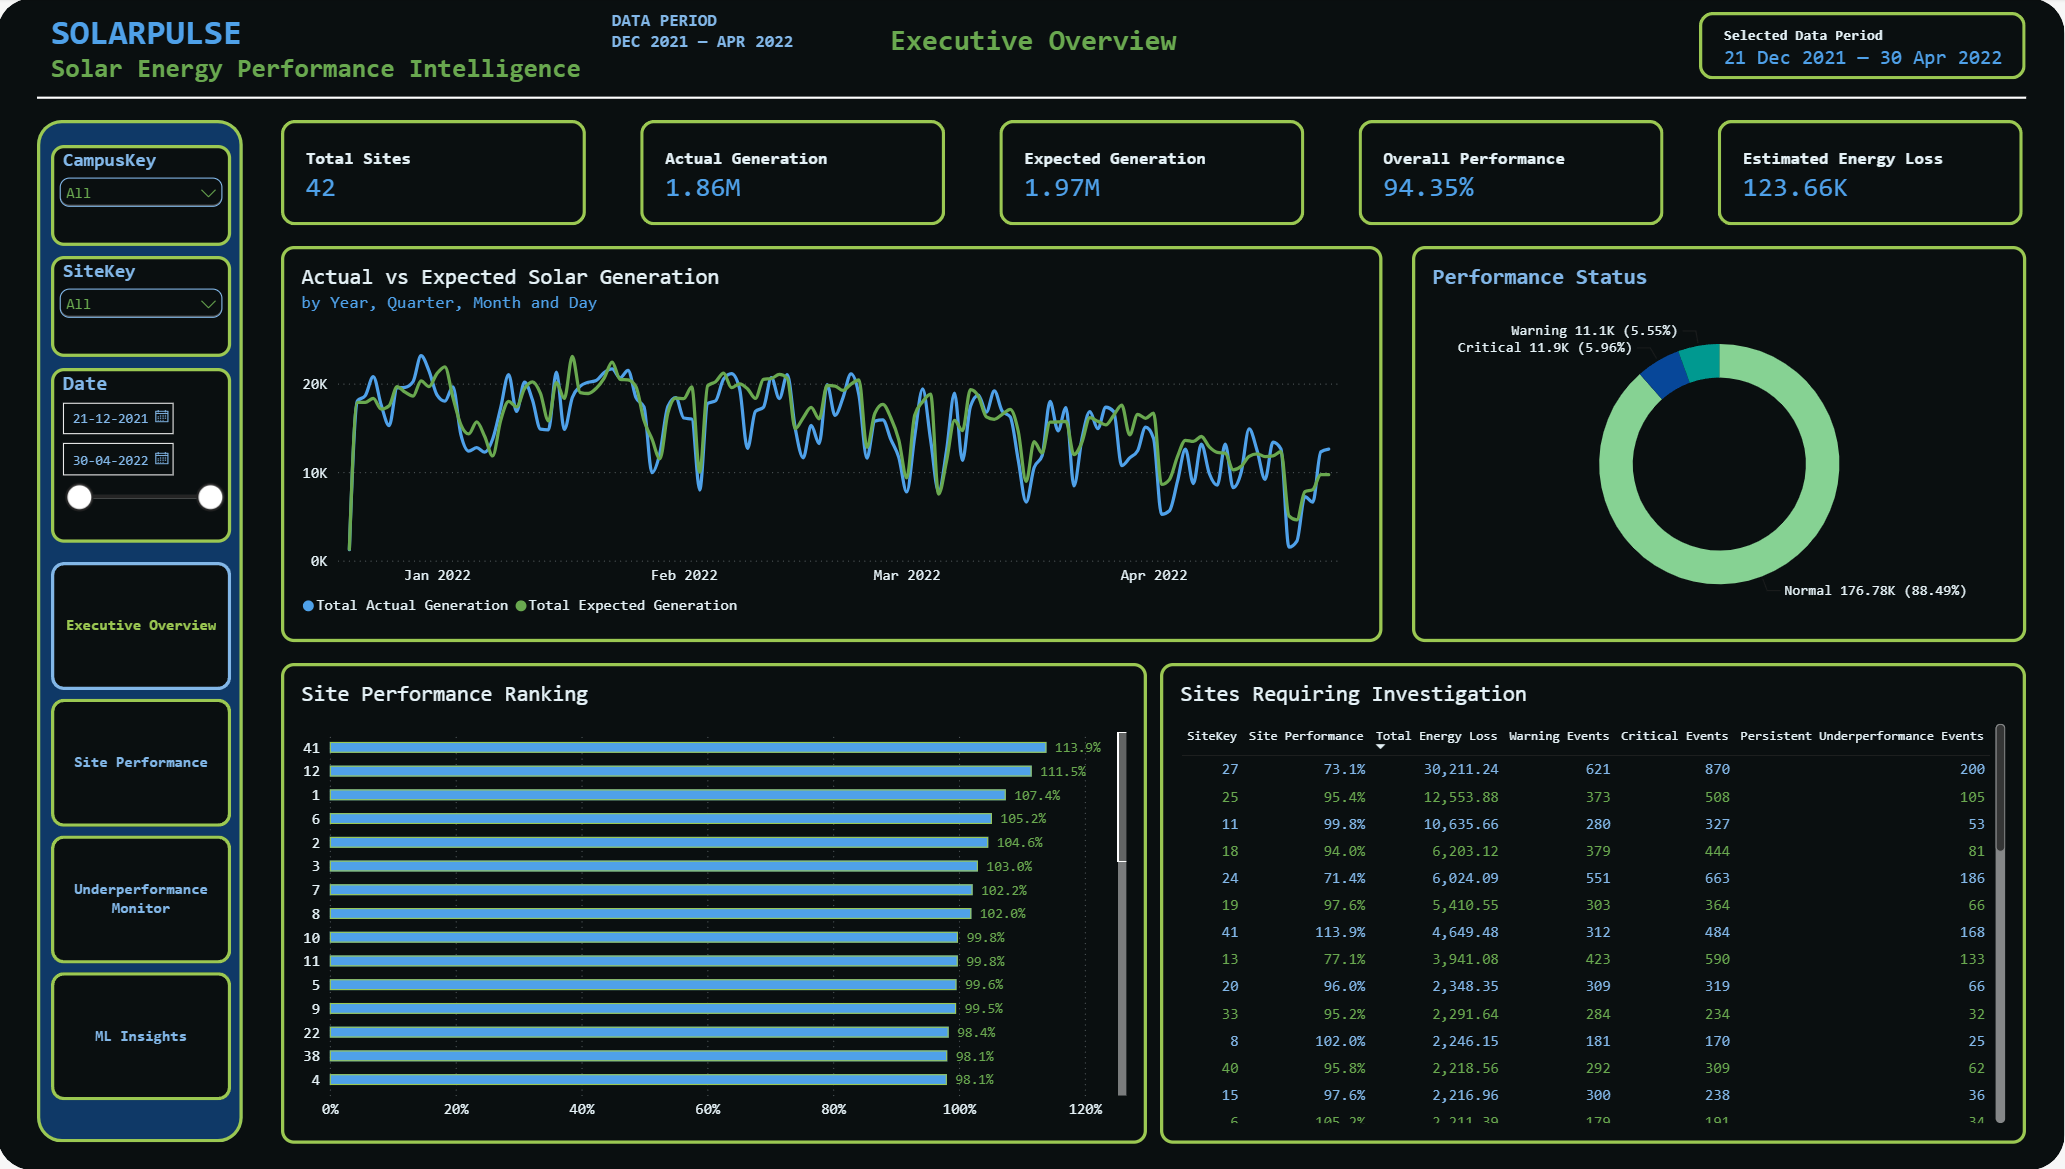

Layout of this report page (visuals, bound fields, positions):
{"tool":"powerbi","page":{"name":"Executive Overview","canvas":[1920,1080],"ordinal":0},"visuals":[{"type":"shape","box":[0,0,1905.4,1080.1],"z":0},{"type":"textbox","box":[49.6,13.6,590.1,82.6],"z":1000},{"type":"shape","box":[36.9,0,1833.5,183.7],"z":2000},{"type":"cardVisual","fields":{"Data":["All_Measures.Total Sites","All_Measures.Total Actual Generation","All_Measures.Total Expected Generation","All_Measures.Overall Performance %","All_Measures.Total Energy Loss"]},"box":[261.5,112.7,1608.6,97.9],"z":3000},{"type":"shape","box":[36.9,112.8,189.6,942],"z":4000},{"type":"lineChart","title":"Actual vs Expected Solar Generation","fields":{"Y":["All_Measures.Total Actual Generation","All_Measures.Total Expected Generation"],"Category":["DateTable.Date.Variation.Date Hierarchy.Year"]},"box":[261.7,228.5,1015.5,364.9],"z":5000},{"type":"donutChart","title":"Performance Status","fields":{"Category":["vw_solar_performance.PerformanceStatus"],"Y":["CountNonNull(vw_solar_performance.PerformanceID)"]},"box":[1303.7,228.2,566.4,365],"z":6000},{"type":"barChart","title":"Site Performance Ranking","fields":{"Y":["All_Measures.Site Performance %"],"Category":["solar_sites.SiteKey"]},"box":[261.5,612.6,798.3,442.6],"z":7000},{"type":"tableEx","title":"Sites Requiring Investigation","fields":{"Values":["solar_sites.SiteKey","All_Measures.Site Performance %","All_Measures.Total Energy Loss","All_Measures.Warning Events","All_Measures.Critical Events","All_Measures.Persistent Underperformance Events"]},"box":[1071.8,612.6,798.3,442.6],"z":8000},{"type":"slicer","title":"Campus Key","fields":{"Values":["solar_sites.CampusKey"]},"box":[49.8,135.3,166.3,93],"z":9000},{"type":"slicer","title":"Campus Key","fields":{"Values":["vw_solar_performance.SiteKey"]},"box":[49.8,237.8,166.3,93],"z":10000},{"type":"slicer","title":"Campus Key","fields":{"Values":["DateTable.Date"]},"box":[49.8,341.1,166.3,160.7],"z":11000},{"type":"textbox","box":[566.7,11.3,227.4,43.2],"z":12000},{"type":"textbox","box":[823.3,23.5,526.3,42.3],"z":13000},{"type":"cardVisual","fields":{"Data":["All_Measures.Selected Data Period"]},"box":[1568.5,13.2,301.7,63],"z":14000},{"type":"pageNavigator","box":[49.8,519.7,166.3,500],"z":14001}]}

Visuals, with their boxes in screenshot pixels (x1, y1, x2, y2), scaled from the page's 1920x1080 canvas onto the 2065x1169 screenshot:
shape: [0,0,2049,1168]
textbox: [53,15,688,104]
shape: [40,0,2012,199]
cardVisual - All_Measures.Total Sites x All_Measures.Total Actual Generation: [281,122,2011,228]
shape: [40,122,244,1142]
"Actual vs Expected Solar Generation" lineChart: [281,247,1374,642]
"Performance Status" donutChart: [1402,247,2011,642]
"Site Performance Ranking" barChart: [281,663,1140,1142]
"Sites Requiring Investigation" tableEx: [1153,663,2011,1142]
"Campus Key" slicer: [54,146,232,247]
"Campus Key" slicer: [54,257,232,358]
"Campus Key" slicer: [54,369,232,543]
textbox: [609,12,854,59]
textbox: [885,25,1452,71]
cardVisual - All_Measures.Selected Data Period: [1687,14,2011,82]
pageNavigator: [54,563,232,1104]
